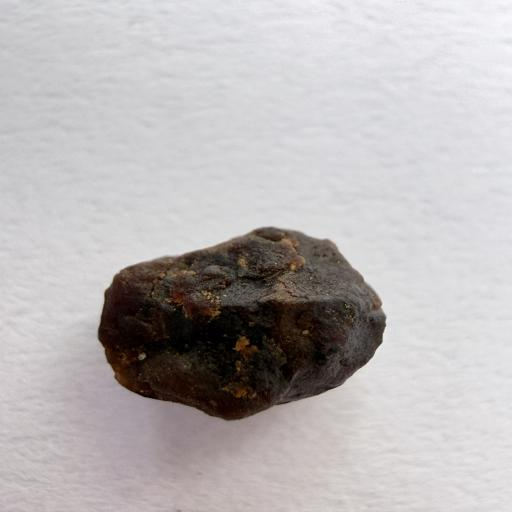Black_pepper: (71, 213, 442, 448)
